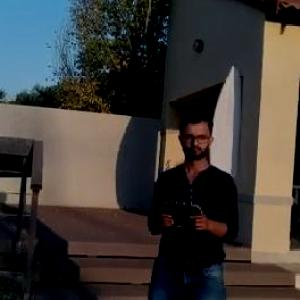follow: (139, 106, 243, 299)
